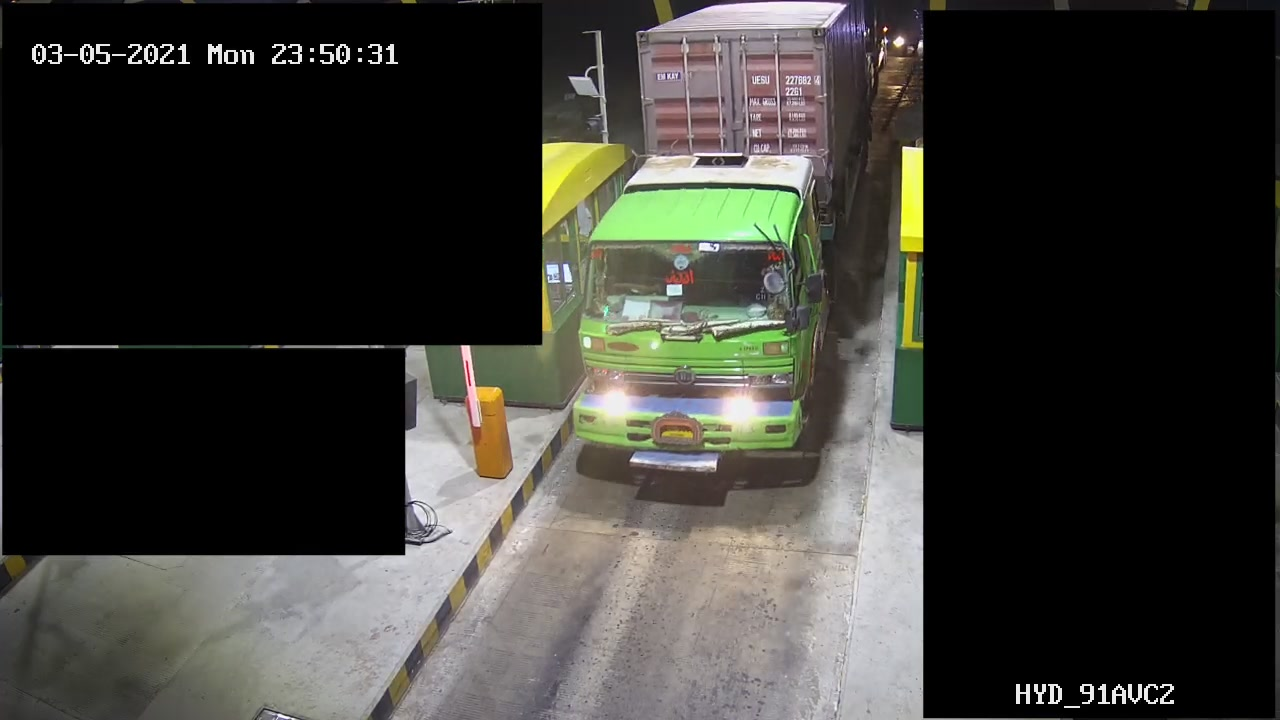F6: (566, 1, 883, 497)
